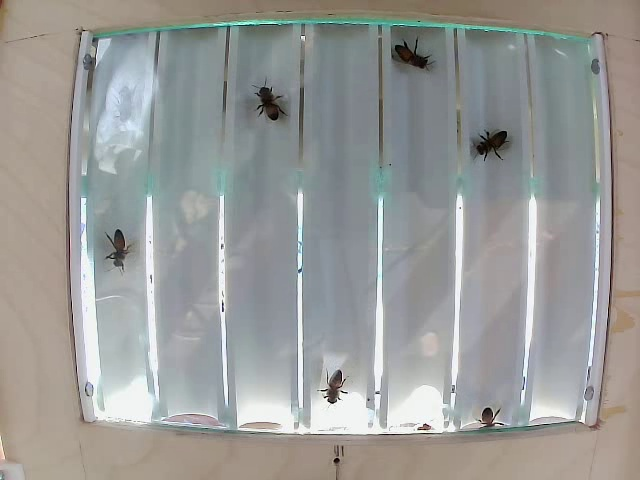bee: (471, 125, 506, 166), (248, 91, 283, 122), (393, 44, 422, 74), (320, 364, 346, 395), (102, 225, 126, 256), (476, 406, 497, 429)
